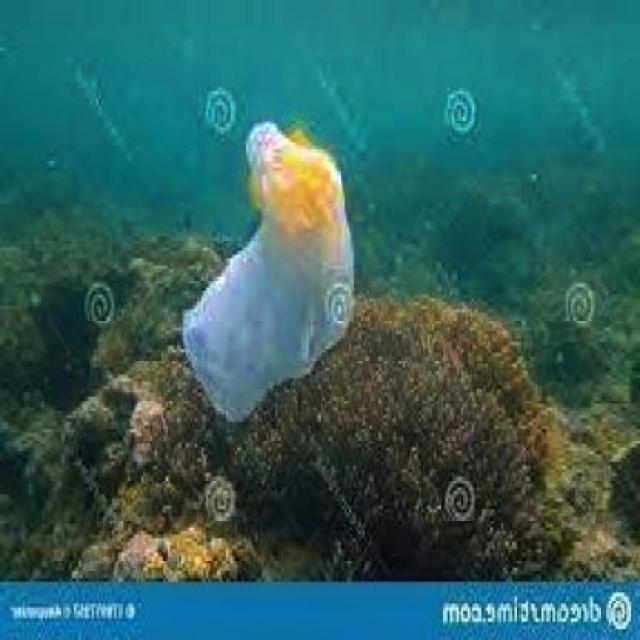pbag: (181, 120, 356, 426)
